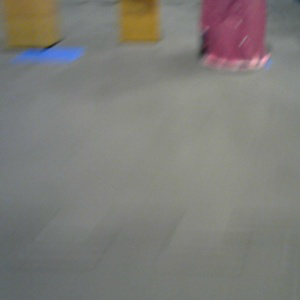Right: (198, 1, 272, 69)
